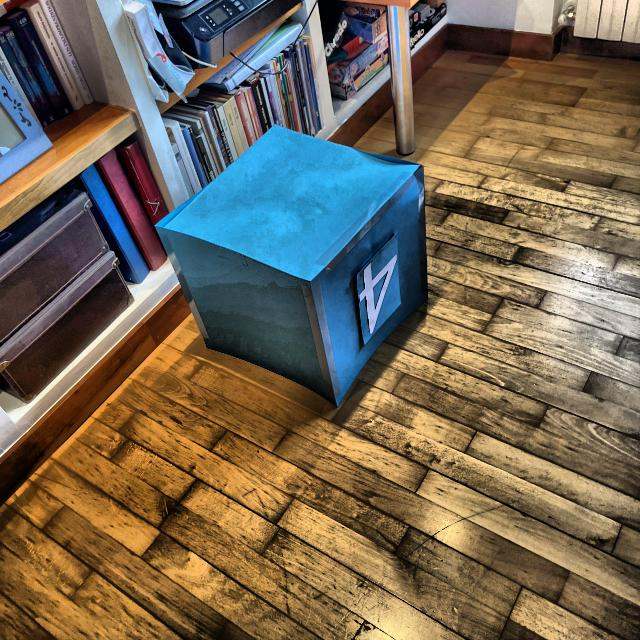blue box: (153, 120, 431, 409)
four: (355, 252, 399, 338)
